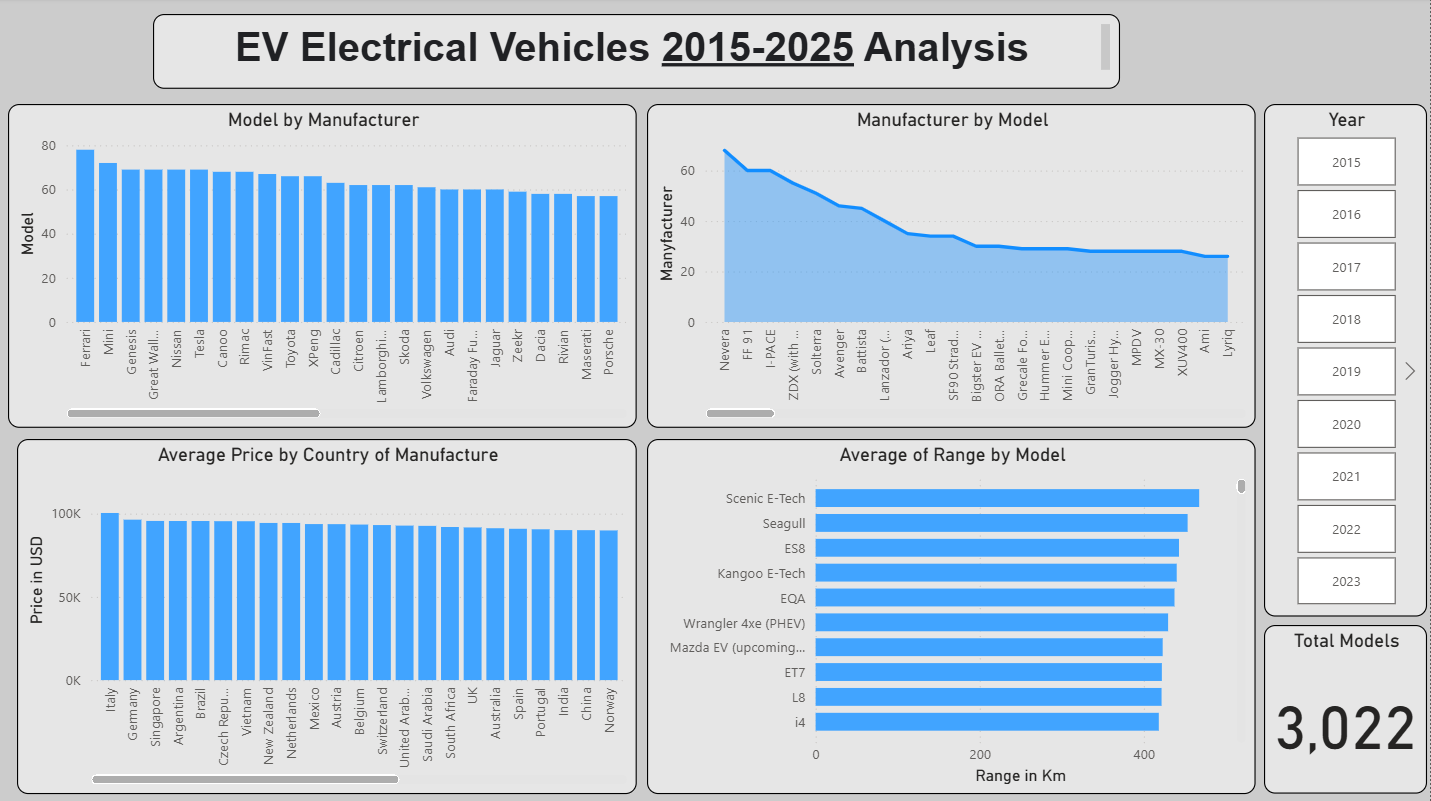

What the dashboard file says about the page in this screenshot:
{"tool":"powerbi","page":{"name":"Page 1","canvas":[1280,720],"ordinal":0},"visuals":[{"type":"columnChart","title":"Model by Manufacturer","fields":{"Y":["CountNonNull(Sheet1.Model)"],"Category":["Sheet1.Manufacturer"]},"box":[7.2,94.9,563.3,290.1],"z":0},{"type":"clusteredBarChart","title":"Average of Range by Model","fields":{"Category":["Sheet1.Model"],"Y":["Avg(Sheet1.Range_km)"]},"box":[579.4,394.9,545.4,317.9],"z":1000},{"type":"lineClusteredColumnComboChart","title":"Average Price by Country of Manufacture","fields":{"Y":["Avg(Sheet1.Price_USD)"],"Category":["Sheet1.Country_of_Manufacture"]},"box":[15.2,394.9,555.2,317.9],"z":2000},{"type":"areaChart","title":"Manufacturer by Model","fields":{"Category":["Sheet1.Model"],"Y":["CountNonNull(Sheet1.Manufacturer)"]},"box":[579.4,94.9,545.4,290.1],"z":3000},{"type":"slicer","title":"Year","fields":{"Values":["Sheet1.Year"]},"box":[1131.9,94.9,146,459.4],"z":4000},{"type":"card","title":"Total Models","fields":{"Values":["Sheet1.Measure"]},"box":[1131.9,561.5,146,151.3],"z":5000},{"type":"textbox","box":[137,14.3,866,67.2],"z":6000}]}

Visuals, with their boxes in screenshot pixels (x1, y1, x2, y2), scaled from the page's 1280x720 canvas onto the 1431x801 screenshot:
"Model by Manufacturer" columnChart: region(8, 106, 638, 428)
"Average of Range by Model" clusteredBarChart: region(648, 439, 1257, 793)
"Average Price by Country of Manufacture" lineClusteredColumnComboChart: region(17, 439, 638, 793)
"Manufacturer by Model" areaChart: region(648, 106, 1257, 428)
"Year" slicer: region(1265, 106, 1429, 617)
"Total Models" card: region(1265, 625, 1429, 793)
textbox: region(153, 16, 1121, 91)
